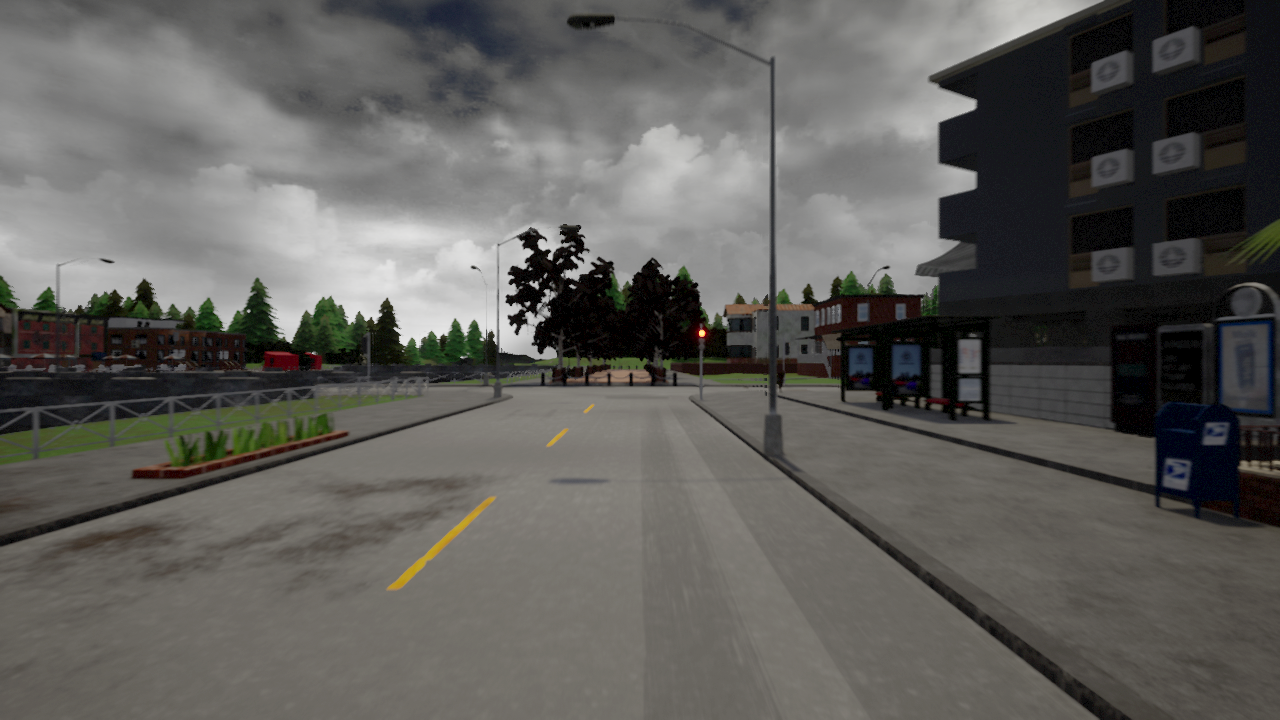red: (697, 329, 708, 352)
